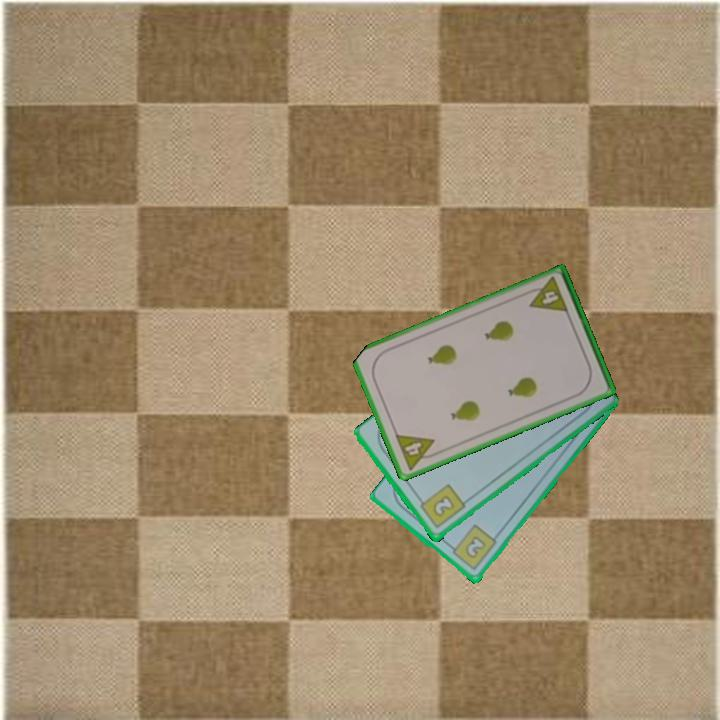2b: (445, 522, 499, 574), (415, 481, 468, 531)
4p: (391, 431, 442, 473), (522, 273, 571, 316)
